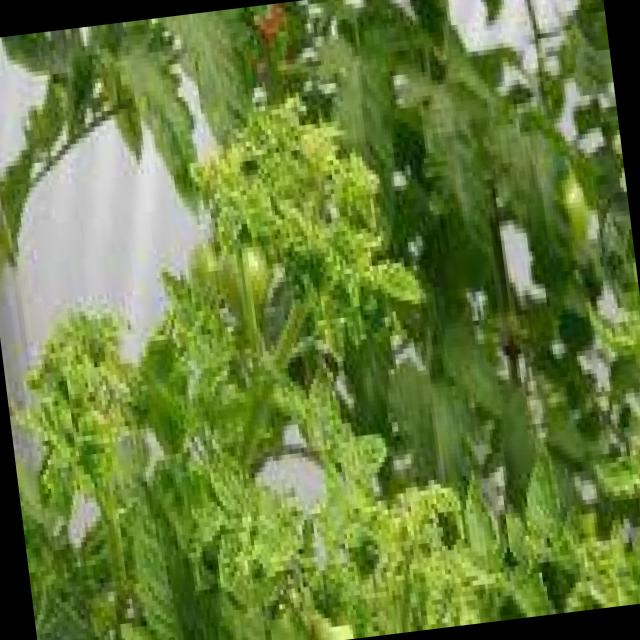Chilli_Leaf_Curl: (0, 0, 640, 640), (180, 80, 438, 448), (0, 14, 210, 268)
